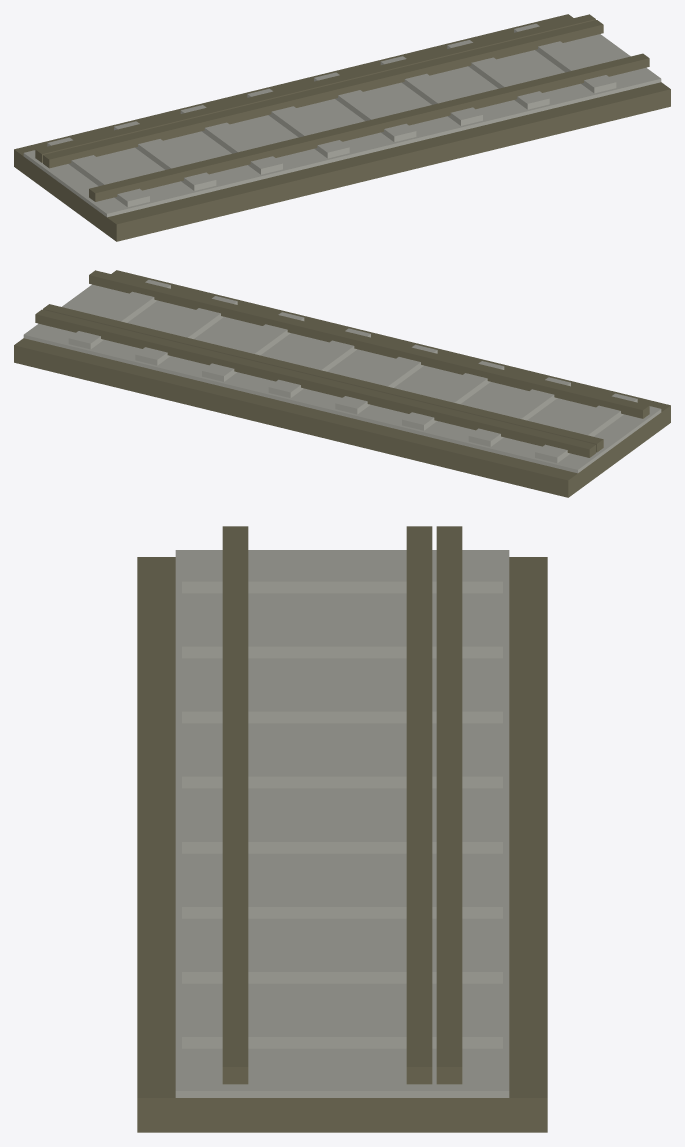
File: SM_KitVia_v2_LOD1.fbx
The picture shows the model from 3 angles, top to bottom: view 1: azimuth 30°, elevation 25°; view 2: azimuth 150°, elevation 25°; view 3: azimuth 270°, elevation 25°; orthographic projection. The views are drawn at different scales.
Parts seen in each view (by area): view 1: SM_kit_via_v2_LOD1; view 2: SM_kit_via_v2_LOD1; view 3: SM_kit_via_v2_LOD1.
Part boxes in pixels (<box>): SM_kit_via_v2_LOD1: <box>14,14,670,241</box>; SM_kit_via_v2_LOD1: <box>14,270,670,497</box>; SM_kit_via_v2_LOD1: <box>137,526,547,1132</box>.
Bounding box in the file's own units: 9.98 × 0.565 × 3.2.
